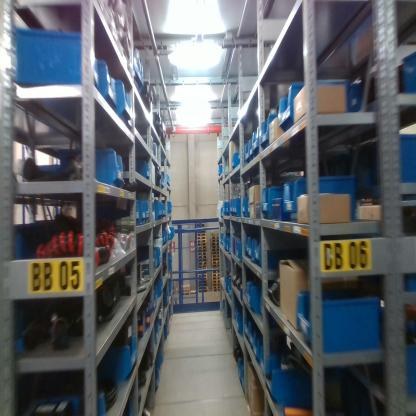pallet: (195, 222, 207, 227), (196, 225, 207, 230), (196, 245, 207, 250), (196, 251, 207, 256), (196, 254, 207, 259), (197, 257, 208, 262), (197, 273, 208, 278), (197, 279, 208, 284), (198, 288, 209, 293), (180, 284, 190, 289), (189, 290, 198, 295), (196, 229, 207, 233), (196, 232, 207, 236), (196, 235, 207, 239), (196, 238, 207, 242), (196, 242, 207, 246), (197, 268, 208, 272), (197, 271, 208, 275), (197, 283, 208, 287), (197, 261, 207, 265), (197, 264, 207, 268), (181, 289, 191, 293), (211, 231, 219, 236), (181, 291, 190, 295), (210, 234, 219, 238), (210, 238, 219, 242), (210, 241, 219, 245), (196, 249, 207, 252), (197, 277, 208, 280), (197, 286, 208, 289), (211, 257, 219, 261), (211, 266, 219, 270), (211, 276, 219, 280), (211, 282, 219, 286), (211, 285, 219, 289), (210, 245, 219, 248), (210, 248, 219, 251), (211, 261, 220, 264), (211, 251, 219, 254), (211, 255, 219, 258), (211, 264, 219, 267), (211, 273, 219, 276), (211, 280, 219, 283), (211, 288, 219, 291), (212, 270, 219, 273)
